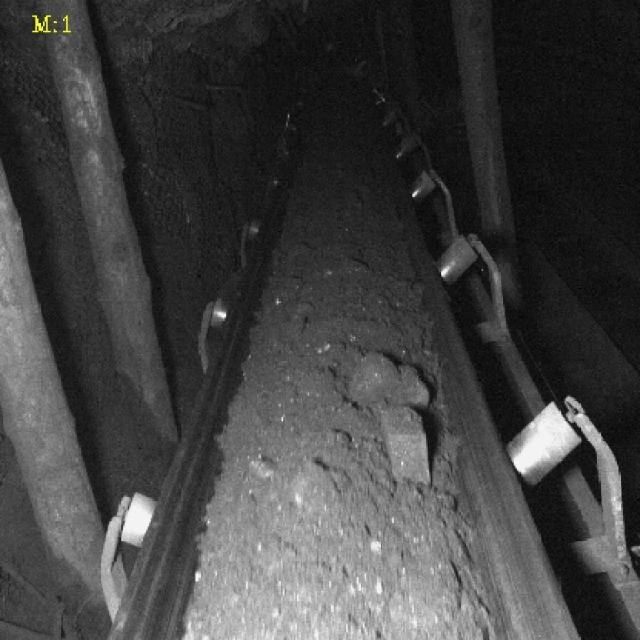large_sized_coal: (344, 354, 436, 415), (375, 410, 434, 488), (288, 462, 350, 516)
